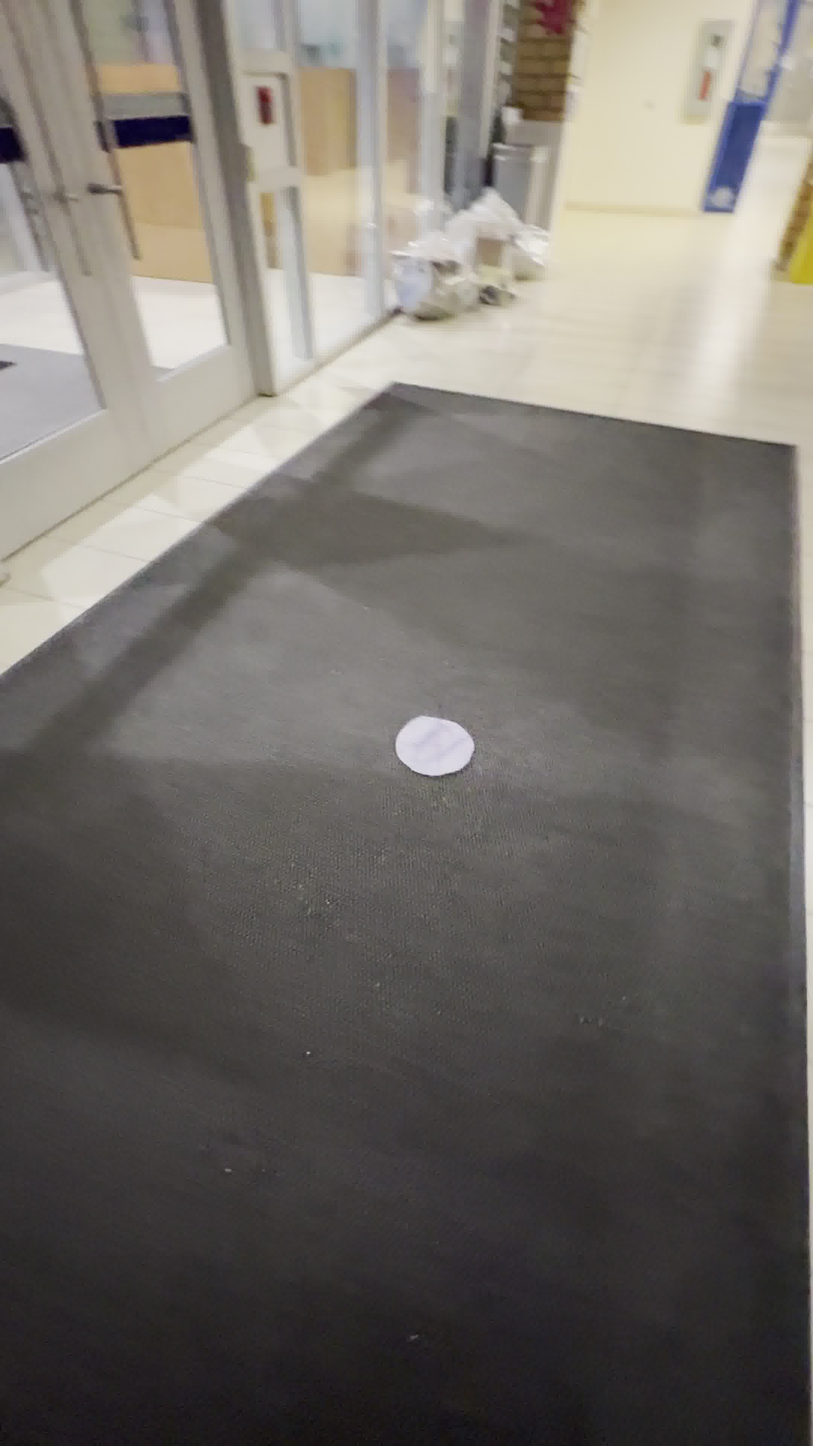Target: (395, 715, 474, 775)
